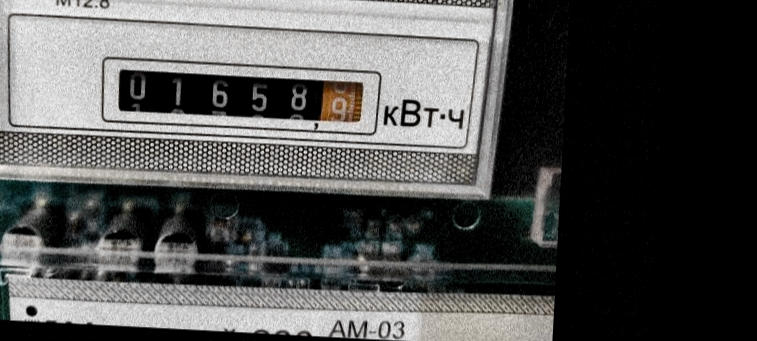0: (126, 69, 149, 102)
1: (170, 75, 185, 107)
5: (250, 80, 271, 113)
6: (210, 77, 232, 109)
8: (289, 80, 310, 113)
9: (329, 94, 348, 121)
screen: (92, 47, 387, 141)
